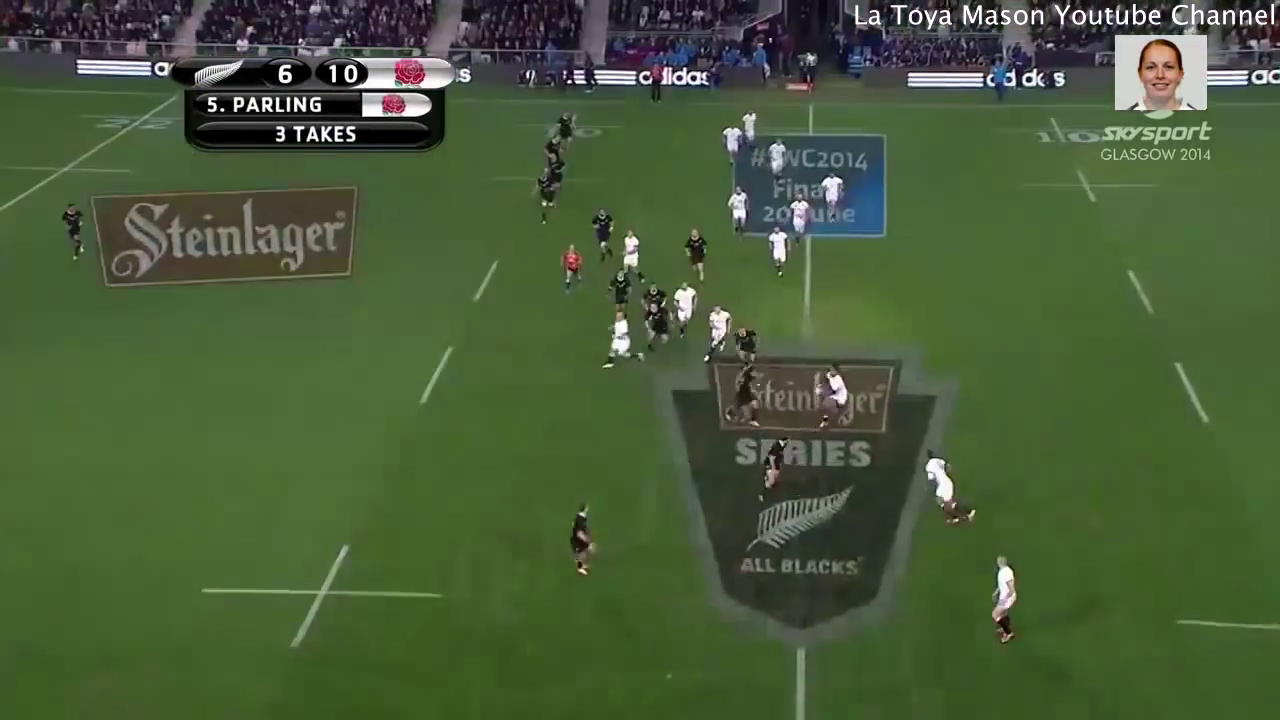10_metre: (195, 539, 456, 646), (1021, 158, 1160, 210), (486, 158, 603, 206), (984, 111, 1128, 149), (520, 111, 624, 150)
player: (914, 449, 982, 537), (979, 546, 1024, 649), (566, 497, 601, 580), (754, 432, 794, 502), (599, 304, 640, 371), (727, 359, 764, 432), (812, 364, 854, 424), (56, 200, 91, 271), (699, 302, 733, 366), (617, 229, 652, 285), (684, 229, 711, 286), (669, 282, 695, 341), (821, 169, 846, 225), (590, 207, 614, 264), (766, 225, 789, 280), (763, 137, 789, 182), (561, 239, 583, 291), (731, 326, 760, 364), (789, 194, 811, 244), (534, 172, 556, 221), (721, 124, 744, 168), (739, 107, 763, 149), (727, 183, 745, 234), (546, 155, 568, 196), (608, 271, 632, 306), (555, 110, 571, 146), (544, 135, 556, 156)
